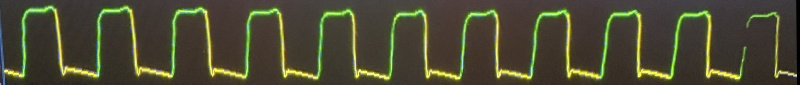normal_pressure: (0, 5, 748, 85)
